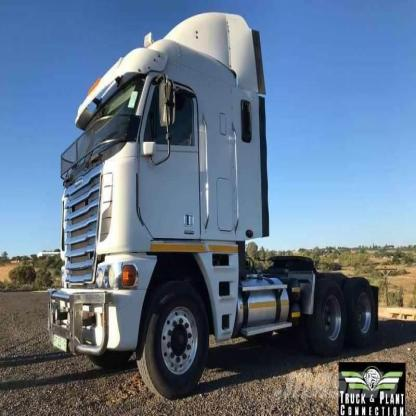dump_truck: (44, 15, 390, 393)
